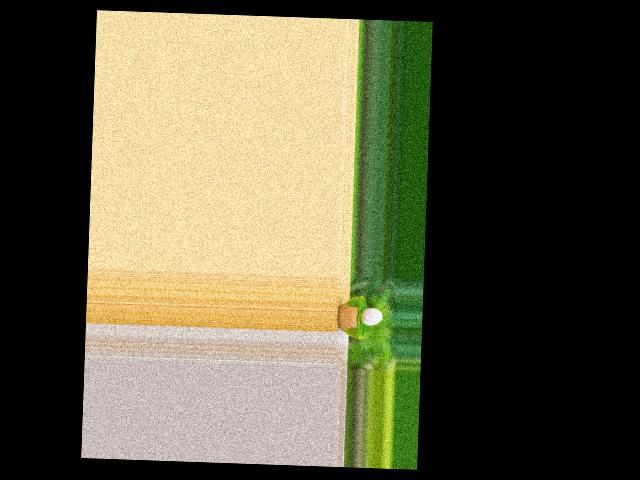egg: (359, 308, 382, 326)
